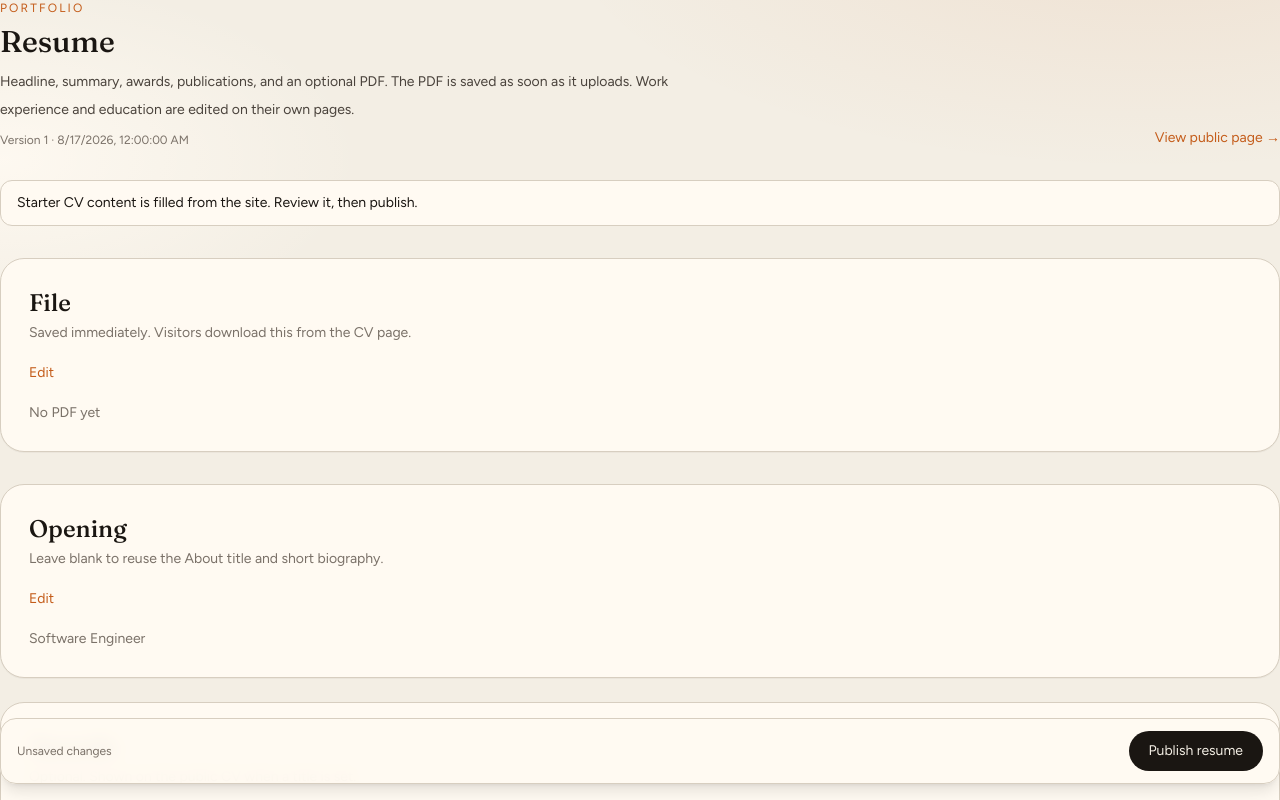
Test: AdminResumePage › fills a blank resume with site content and publishes it
expect the heading "Resume" is shown: met, box [0,23,115,60]
expect the message shows "Starter CV content is filled from the site": met, box [17,194,418,211]
Click the button "Edit" below "Opening".
click(42, 599)  # box [29,589,54,609]
(page scrolled)
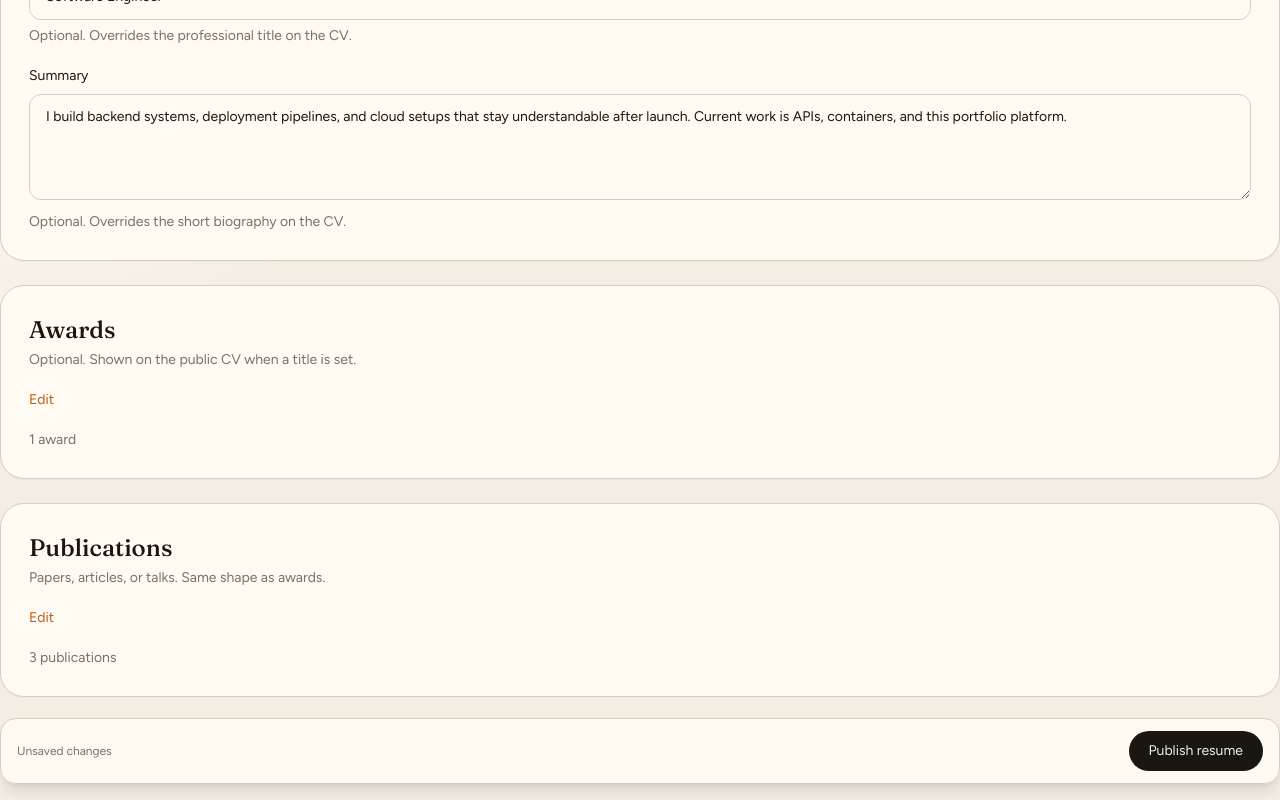
expect the element "Awards" is shown: met, box [0,285,1279,479]
Click the 1st button "Edit".
click(42, 400)  # box [29,390,54,410]
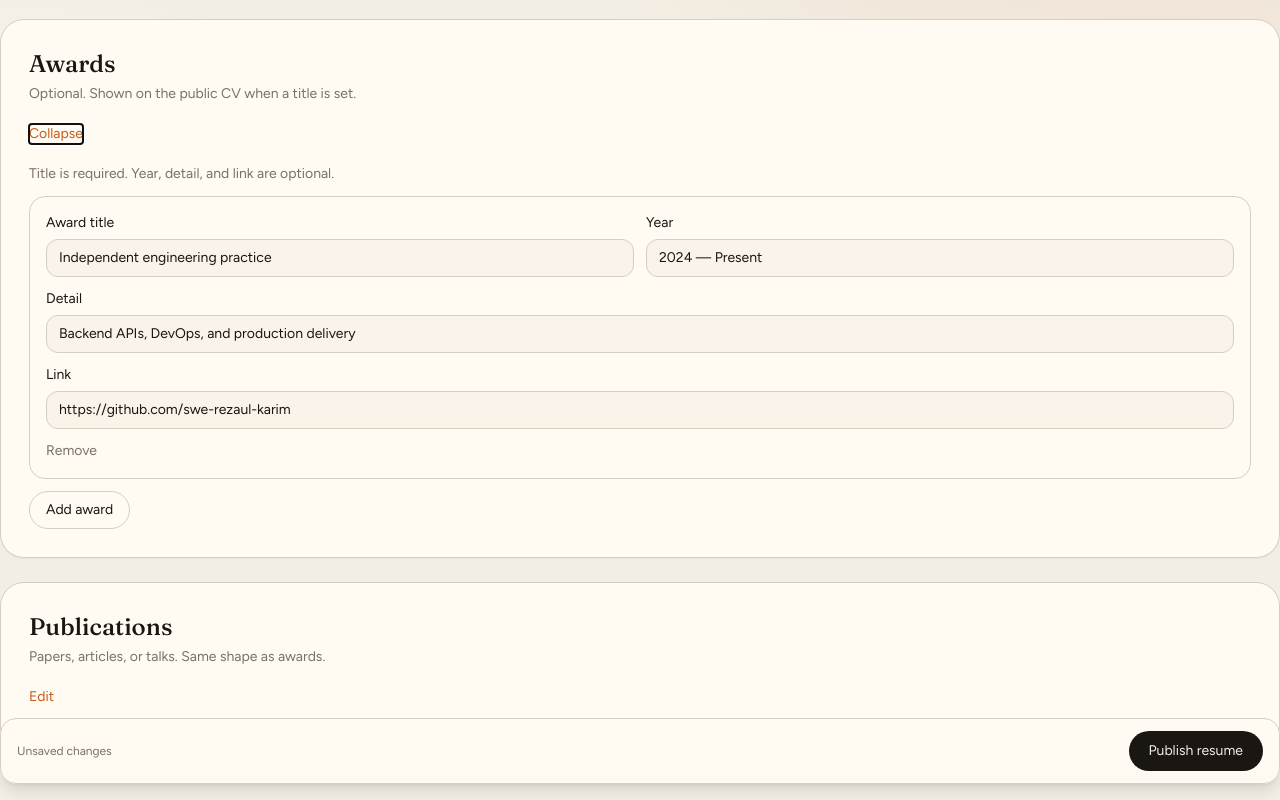
expect the element "Publications" is shown: met, box [0,582,1279,776]
expect the field labelled "Award title" holds "Independent engineering practice": met, box [46,239,634,277]
Click the button "Edit".
click(42, 697)  # box [29,687,54,707]
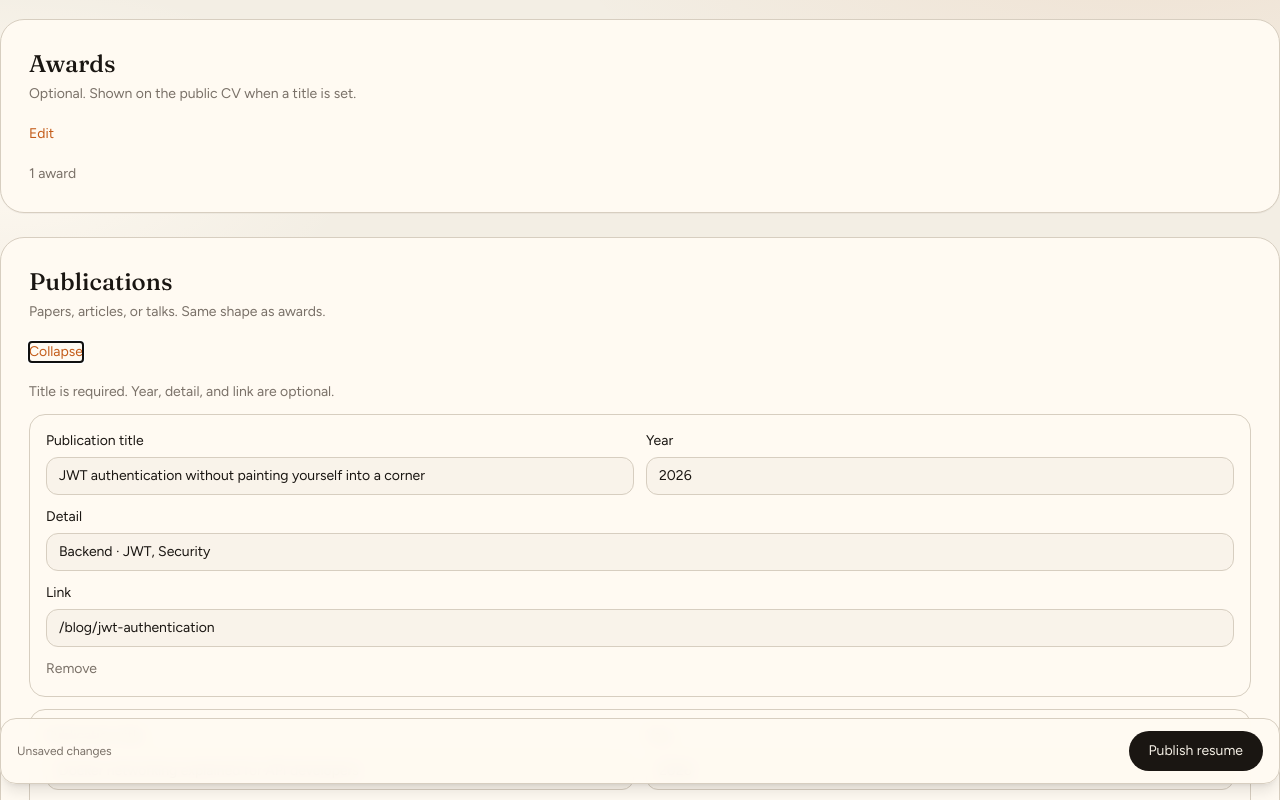
expect the field labelled "Publication title" holds "JWT authentication without painting yourself into a corner": met, box [46,457,634,495]
Click the button "Publish resume".
click(1196, 751)  # box [1128,731,1263,771]
(page scrolled)
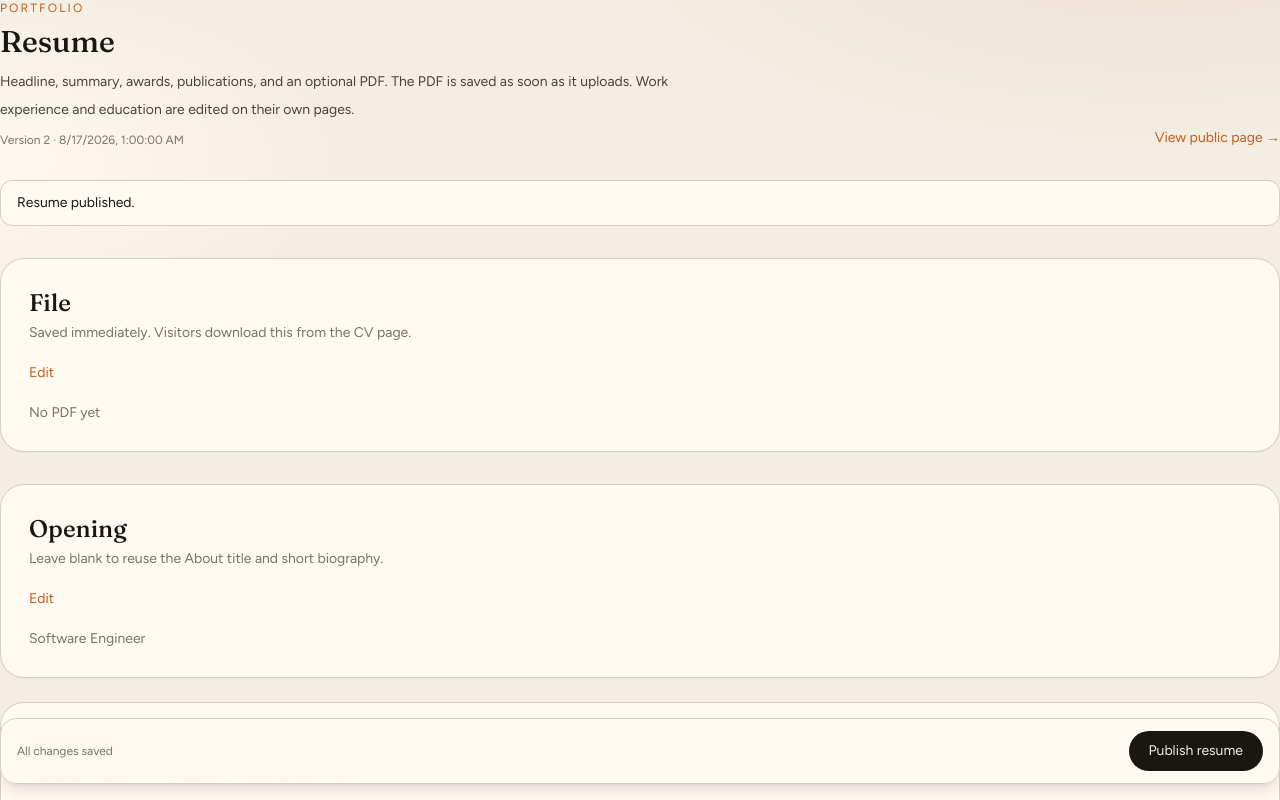
expect the text "Resume published." is shown: met, box [0,180,1279,226]
